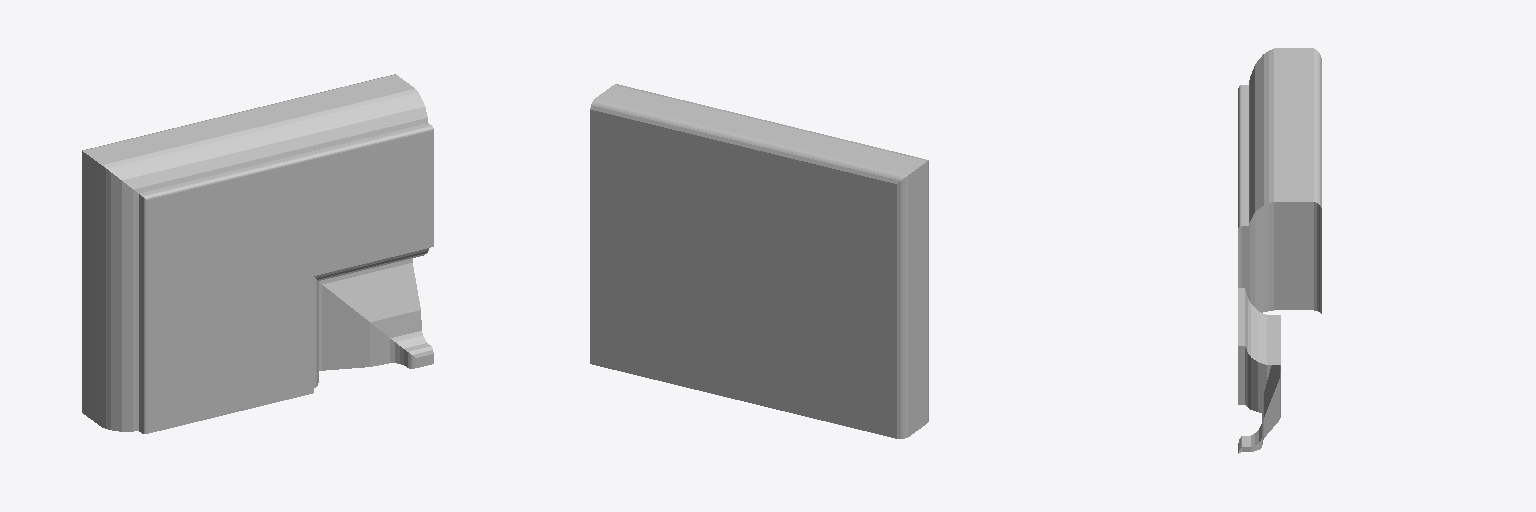
File: original-67.obj
3 views of the same model, side by side, from view 1: azimuth 30°, elevation 25°; view 2: azimuth 150°, elevation 25°; view 3: azimuth 270°, elevation 25° (orthographic).
Visible parts, largest first — view 1: DF_11_TL2/DF_11_TL/mesh24/mesh24-geometry#mesh24-geometry; view 2: DF_11_TL2/DF_11_TL/mesh24/mesh24-geometry#mesh24-geometry; view 3: DF_11_TL2/DF_11_TL/mesh24/mesh24-geometry#mesh24-geometry.
Part boxes in pixels (x1,y1,x2,y2): DF_11_TL2/DF_11_TL/mesh24/mesh24-geometry#mesh24-geometry: (82,74,433,433); DF_11_TL2/DF_11_TL/mesh24/mesh24-geometry#mesh24-geometry: (590,84,928,438); DF_11_TL2/DF_11_TL/mesh24/mesh24-geometry#mesh24-geometry: (1238,48,1321,453).
Bounding box in the file's own units: 0.1169 × 0.0933 × 0.027.